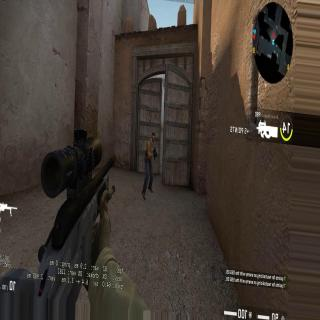T-Body: (144, 127, 156, 201)
T-Head: (151, 130, 155, 142)
